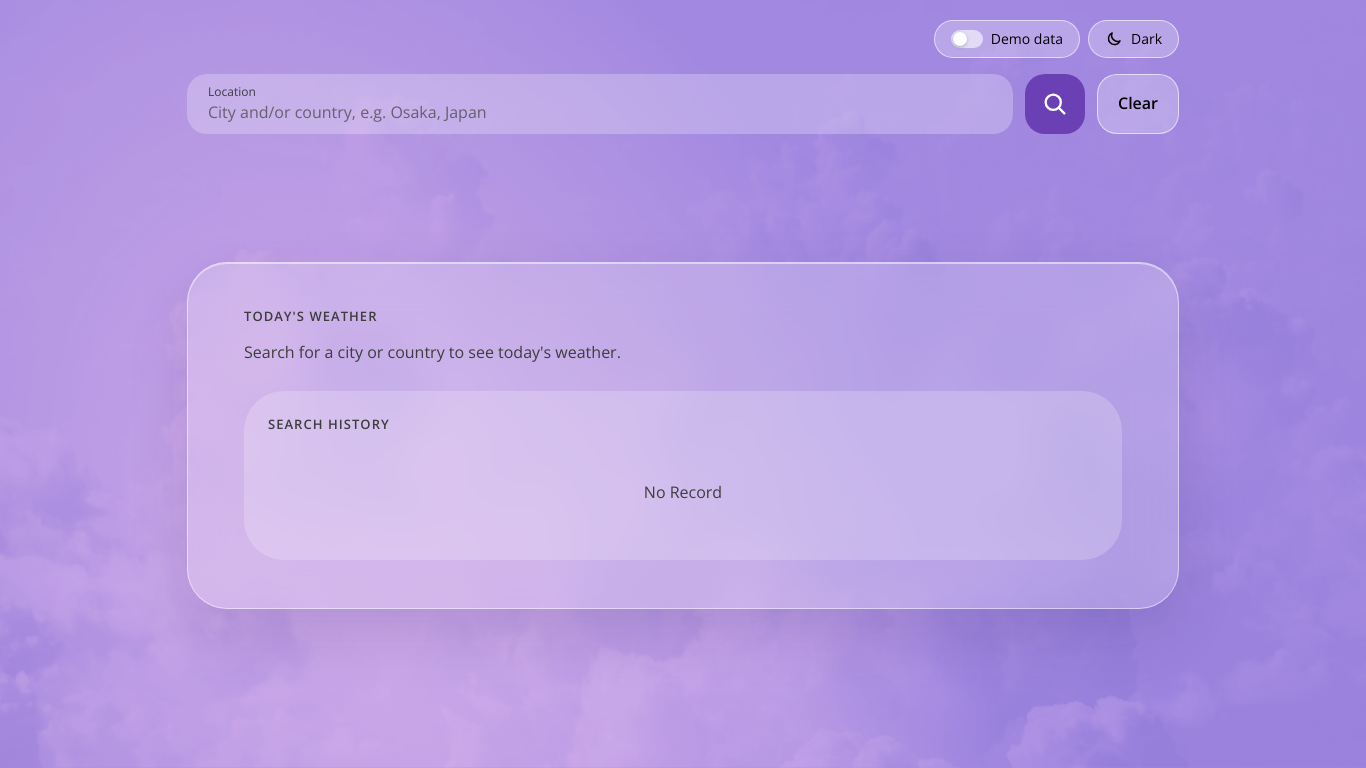
Scenario: App › shows a friendly message when the network fails
Type "Tokyo" into the dropdown labelled "Location" at (600, 112), box [208, 101, 992, 123]
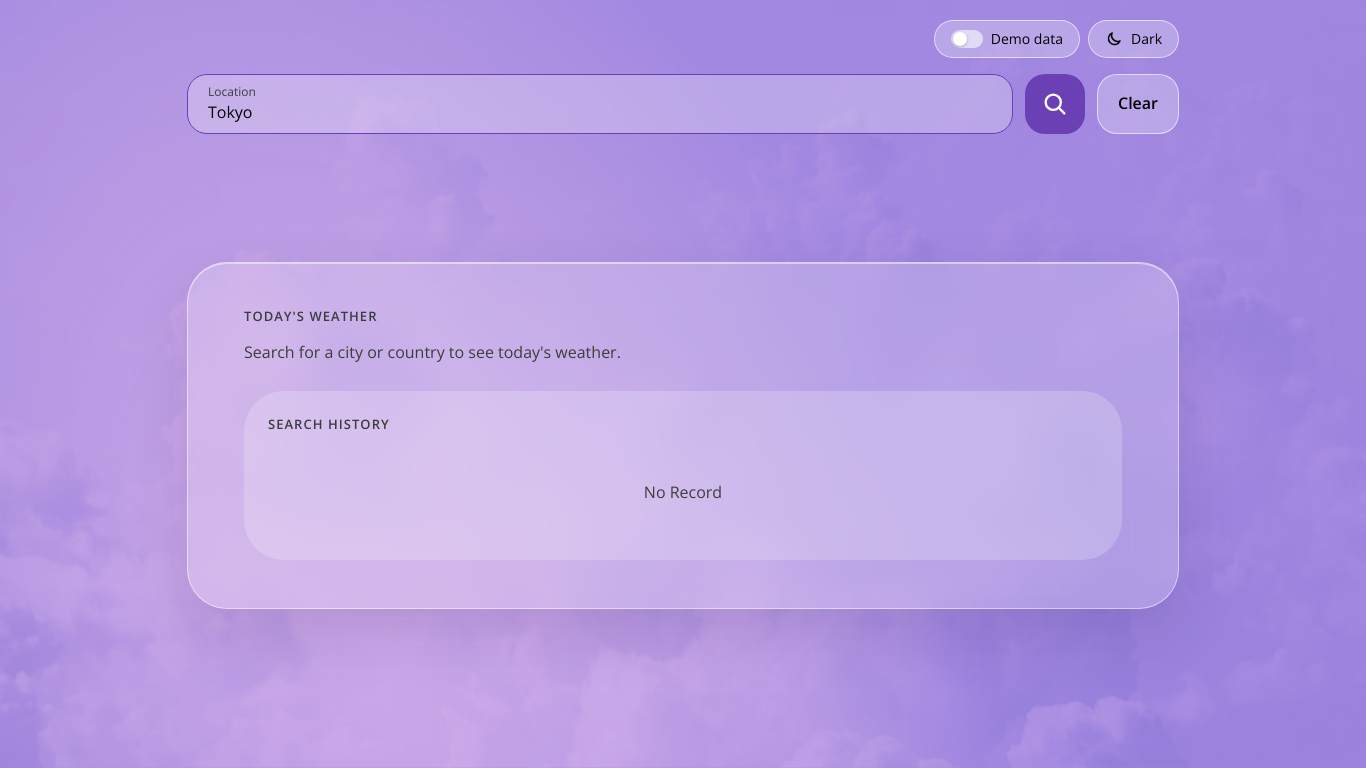
Click the button named "Search" at (1055, 104), box [1025, 74, 1085, 134]
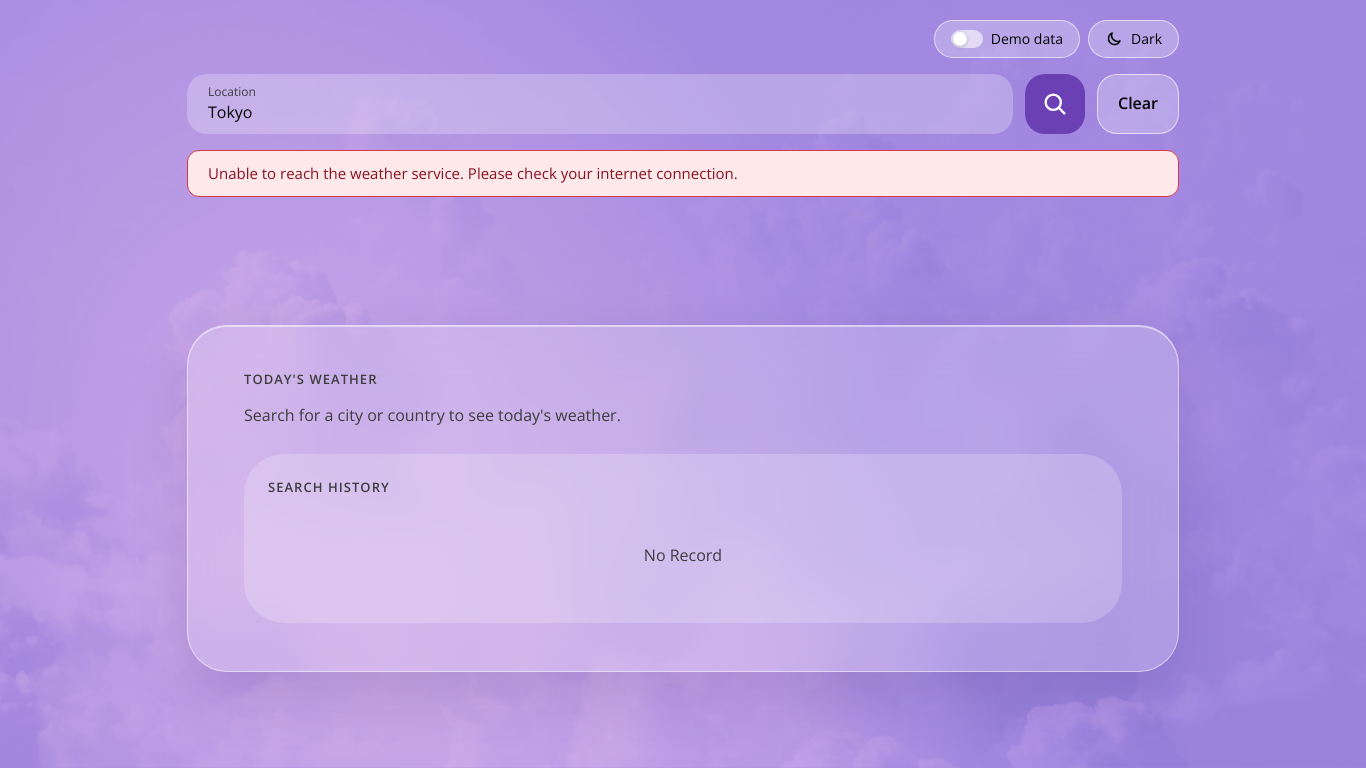
Result: the message shows "Unable to reach" at [208, 163, 738, 183]
